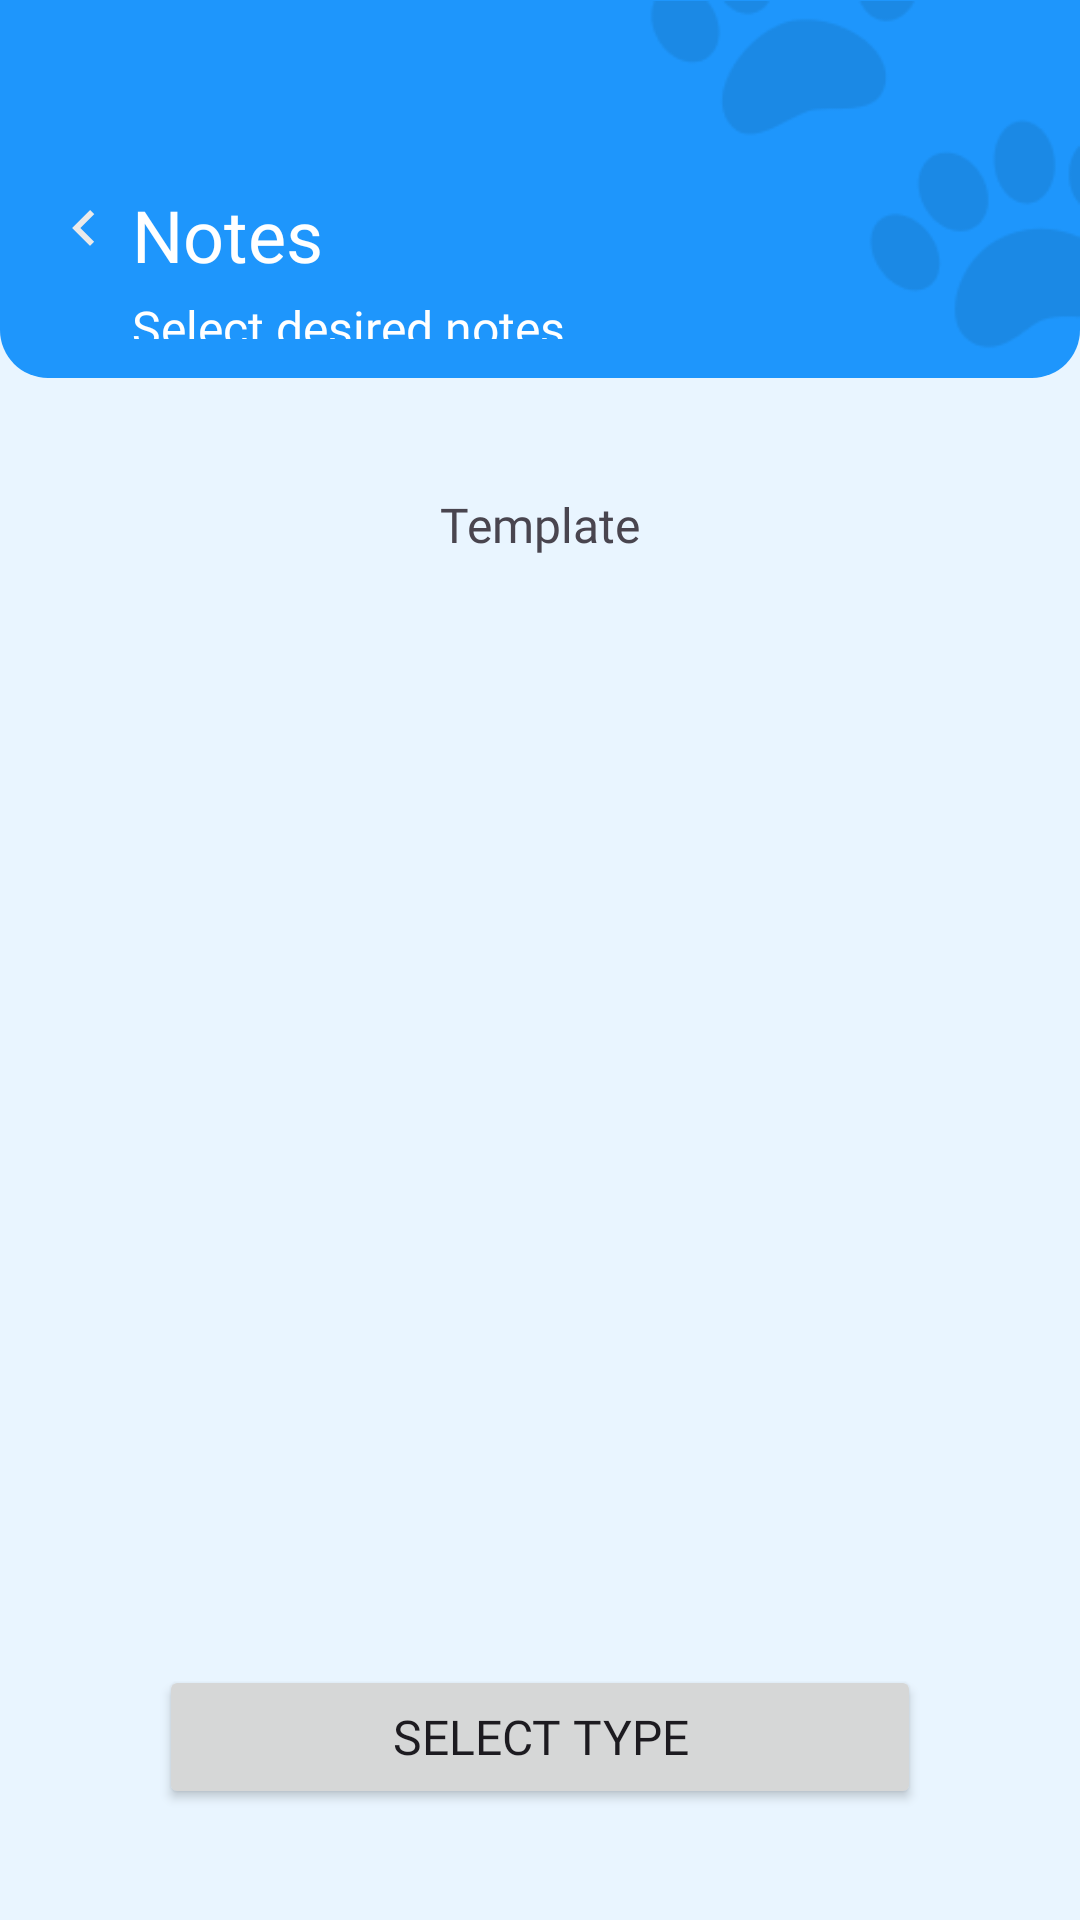

Named icons in this screenshot (1080×1920) and their centers, (x=x, y=y):
arrow left: (x=83, y=228)
